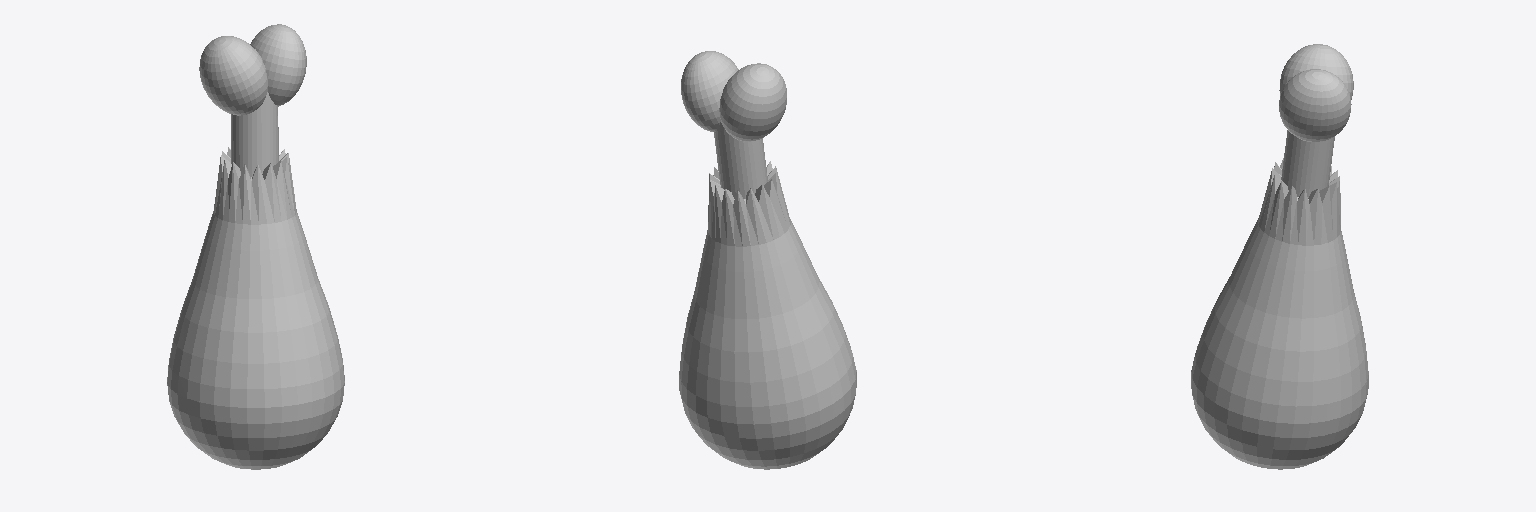
File: chicken-drumstick_raw.obj
3 views of the same model, side by side, from view 1: azimuth 30°, elevation 25°; view 2: azimuth 150°, elevation 25°; view 3: azimuth 270°, elevation 25° (orthographic).
Visible parts, largest first — view 1: Bucket.002; view 2: Bucket.002; view 3: Bucket.002.
Part boxes in pixels (x1,y1,x2,y2): Bucket.002: (167, 24, 344, 469); Bucket.002: (679, 51, 856, 469); Bucket.002: (1191, 44, 1368, 469).
Size of the model in its own units: 0.1491 by 0.3797 by 0.1489.